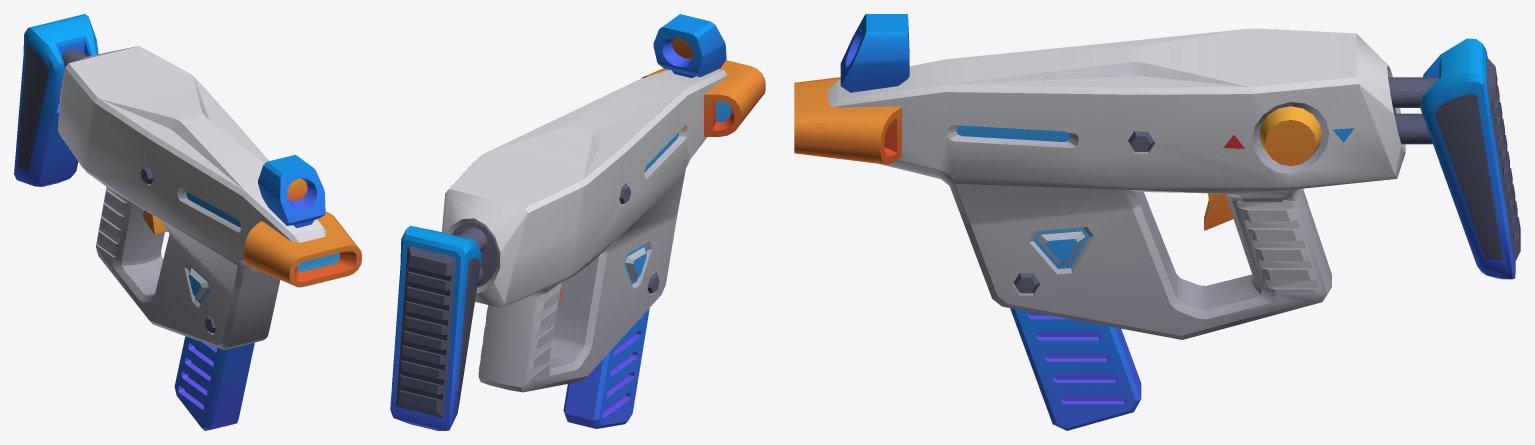
The model's file is Rifle B.fbx.
3 views of the same model, side by side, from view 1: azimuth 30°, elevation 25°; view 2: azimuth 150°, elevation 25°; view 3: azimuth 270°, elevation 25° (orthographic). The views are drawn at different scales.
Visible parts, largest first — view 1: Rifle B, Rifle B.001; view 2: Rifle B, Rifle B.001; view 3: Rifle B, Rifle B.001.
Part boxes in pixels (x1,y1,x2,y2): Rifle B: (14, 14, 361, 349); Rifle B.001: (174, 336, 254, 430); Rifle B: (390, 14, 765, 430); Rifle B.001: (563, 308, 649, 428); Rifle B: (794, 14, 1520, 339); Rifle B.001: (1010, 308, 1141, 430).
Bounding box in the file's own units: 0.2096 × 0.5959 × 0.9808.
